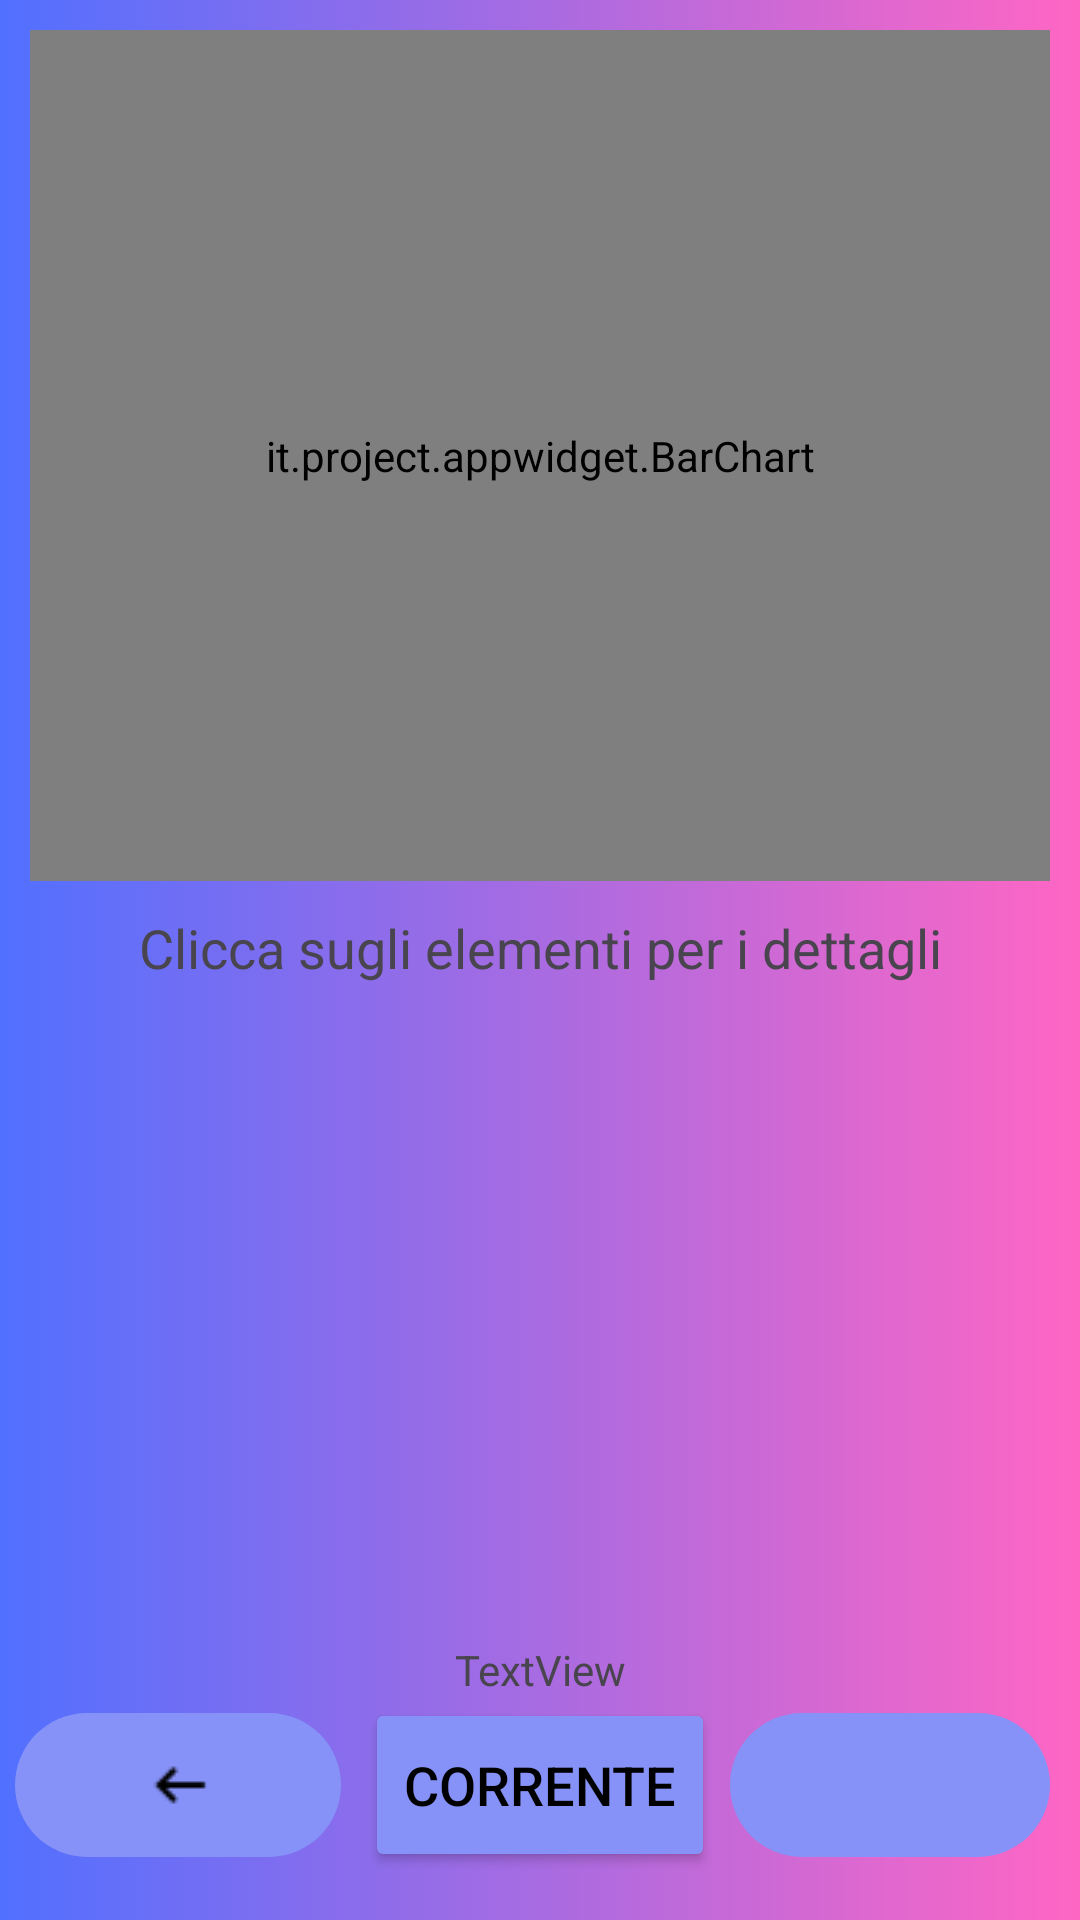

Named icons in this screenshot (1080*1920) and their centers, (x=x, y=y):
Bottone per visualizzare la settimana passata: (x=178, y=1785)
